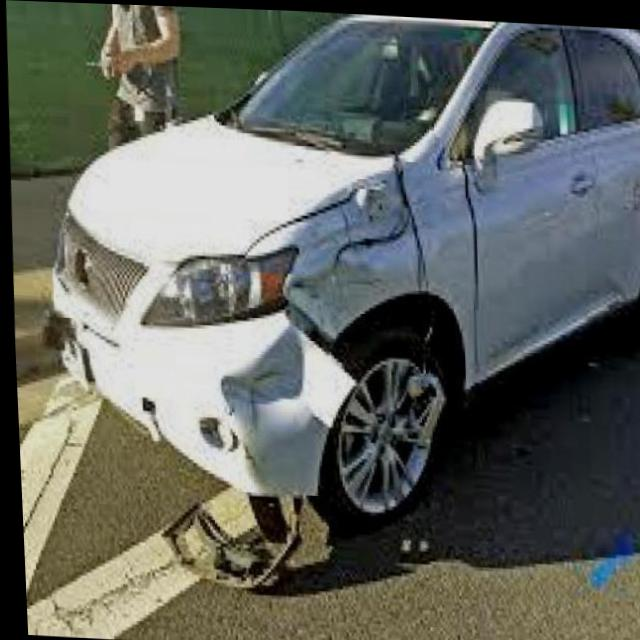Car-Damage: (192, 139, 469, 521)
